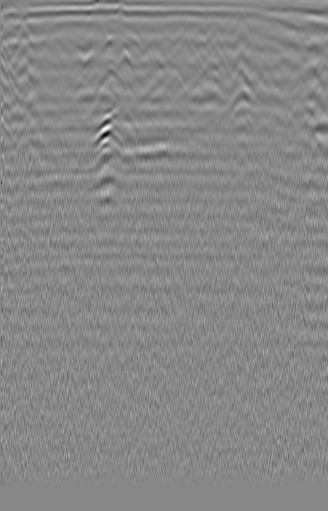가스: (83, 113, 124, 153)
상수: (8, 21, 40, 68)
오수: (294, 36, 324, 68)
우수: (137, 37, 166, 58)
